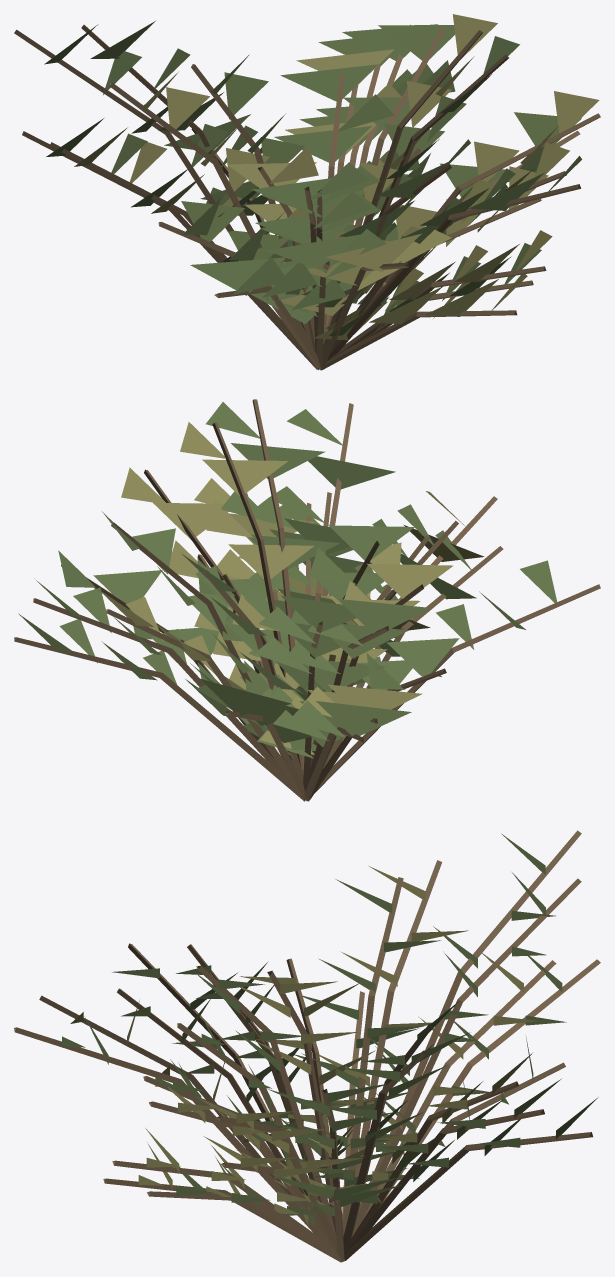
The model's file is bush.glb.
3 views of the same model, one above another, from view 1: azimuth 30°, elevation 25°; view 2: azimuth 150°, elevation 25°; view 3: azimuth 270°, elevation 25° (orthographic). The views are drawn at different scales.
Visible parts, largest first — view 1: bush_leaf, bush_wood, bush_dryleaf; view 2: bush_leaf, bush_wood, bush_dryleaf; view 3: bush_wood, bush_leaf, bush_dryleaf.
Part boxes in pixels (box(x1,y1,x2,y2)): bush_leaf: box(44, 21, 581, 335); bush_wood: box(14, 24, 600, 370); bush_dryleaf: box(74, 14, 599, 340); bush_leaf: box(18, 402, 557, 758); bush_wood: box(14, 399, 600, 801); bush_dryleaf: box(97, 422, 484, 754); bush_wood: box(14, 830, 600, 1262); bush_leaf: box(62, 833, 598, 1226); bush_dryleaf: box(70, 866, 537, 1225).
Size of the model in its own units: 1.51 by 1.04 by 1.55.
